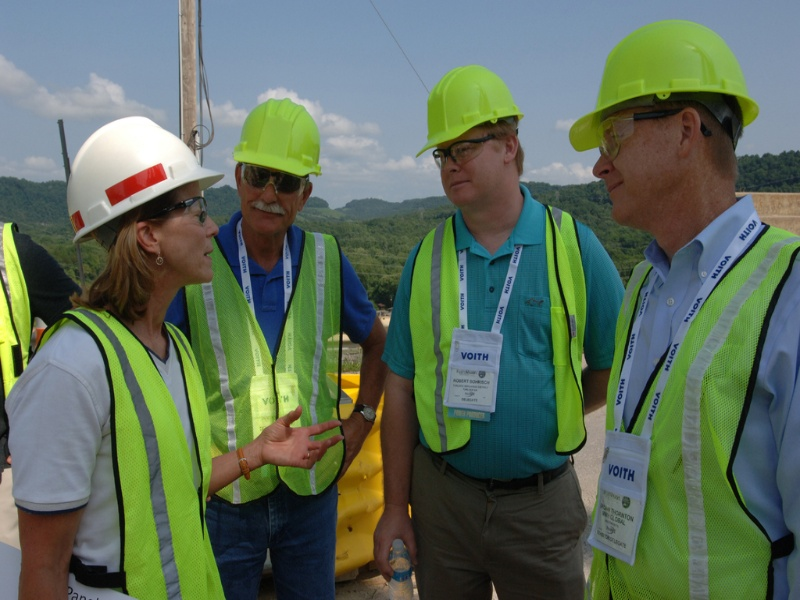helmet: (65, 116, 219, 228), (601, 17, 756, 114), (426, 64, 522, 138), (236, 99, 325, 178)
jacket: (610, 240, 786, 600), (417, 215, 581, 453), (198, 228, 340, 484), (99, 313, 214, 600)
